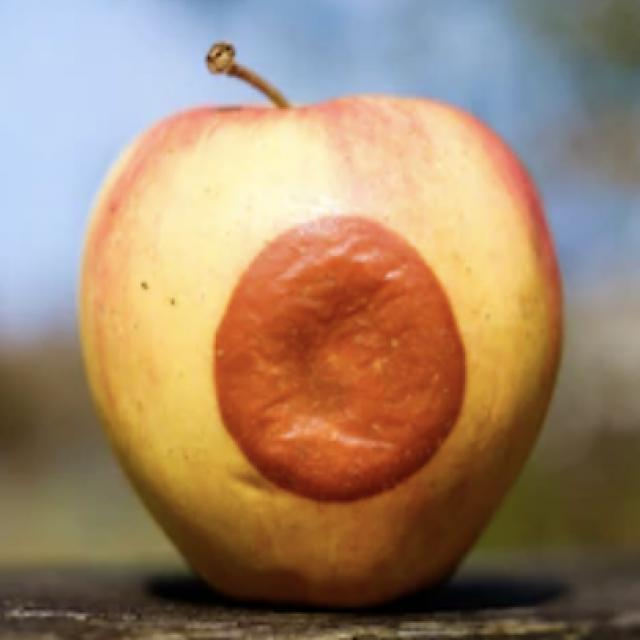Rotten: (72, 94, 563, 614)
